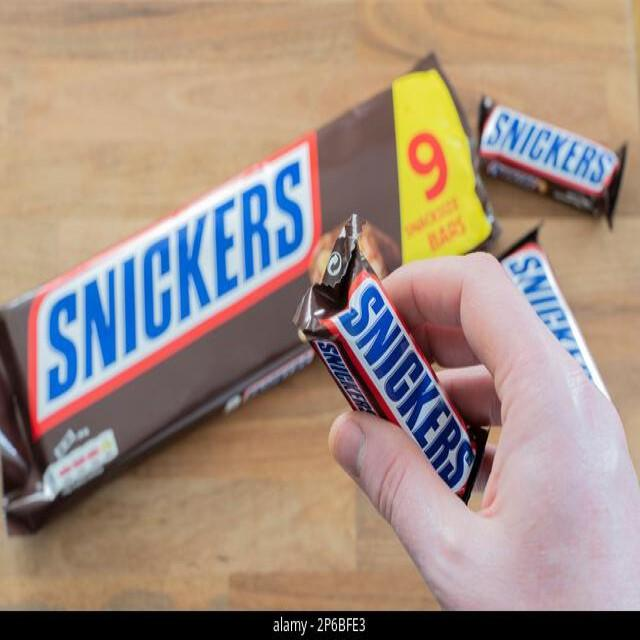snickers_chocolate: (13, 57, 440, 498), (316, 268, 472, 484), (490, 100, 608, 192)
